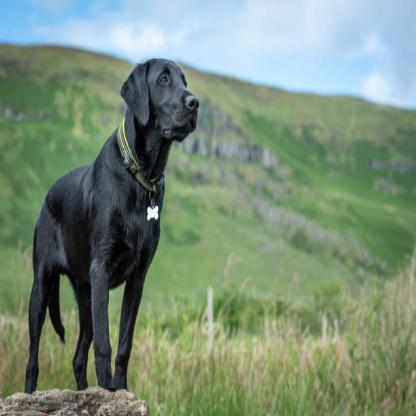dog: (25, 58, 201, 396)
